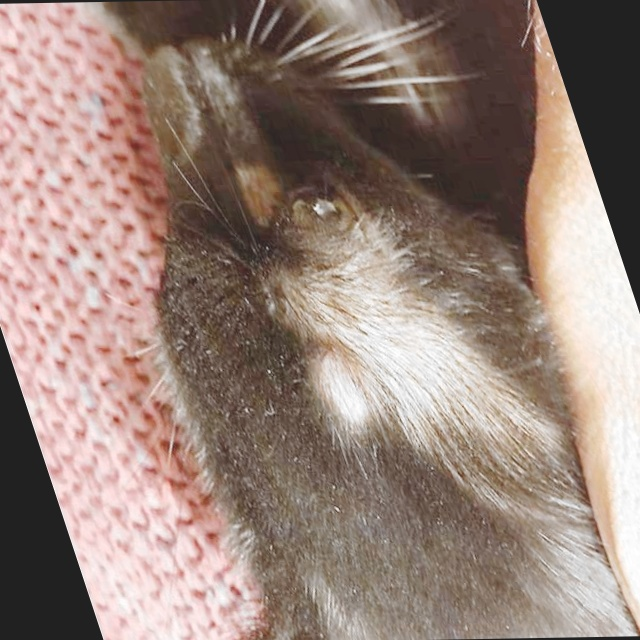lump_and_bump: (315, 370, 376, 416)
